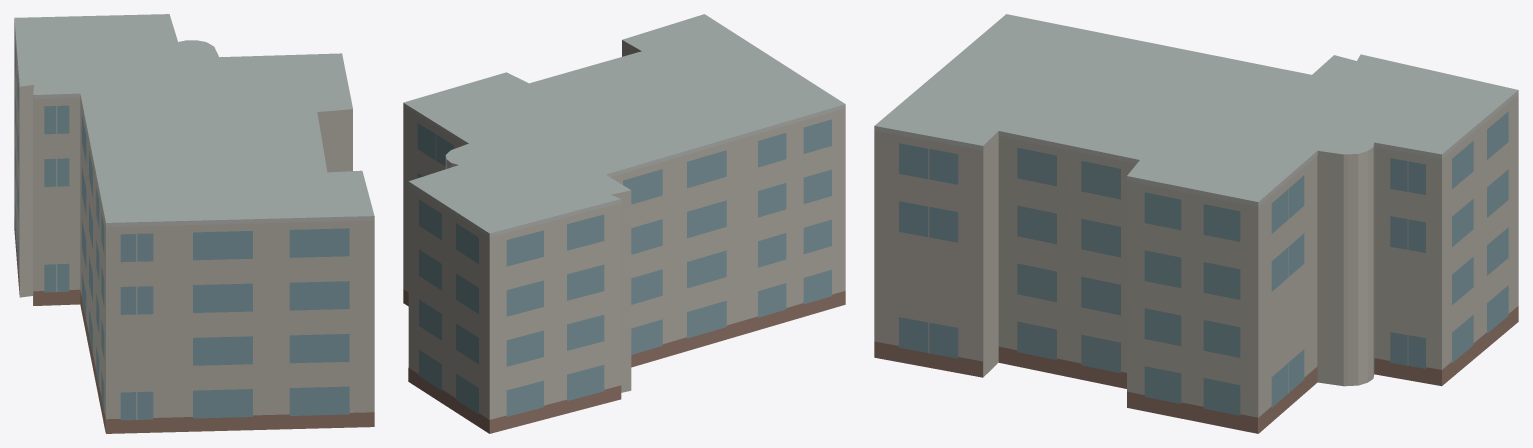
File: survey-upis-32887434.glb
The picture shows the model from 3 angles, left to right: view 1: azimuth 30°, elevation 25°; view 2: azimuth 150°, elevation 25°; view 3: azimuth 270°, elevation 25°; orthographic projection. The views are drawn at different scales.
Visible parts, largest first — view 1: survey-upis-32887434.tmp; view 2: survey-upis-32887434.tmp; view 3: survey-upis-32887434.tmp.
Boxes of the visible parts, x1,y1,x2,y2 form: survey-upis-32887434.tmp: (14,14,374,433); survey-upis-32887434.tmp: (403,14,845,433); survey-upis-32887434.tmp: (874,14,1518,433).
Bounding box in the file's own units: 21.25 × 12.2 × 30.75.
